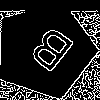B: (20, 24, 77, 82)
